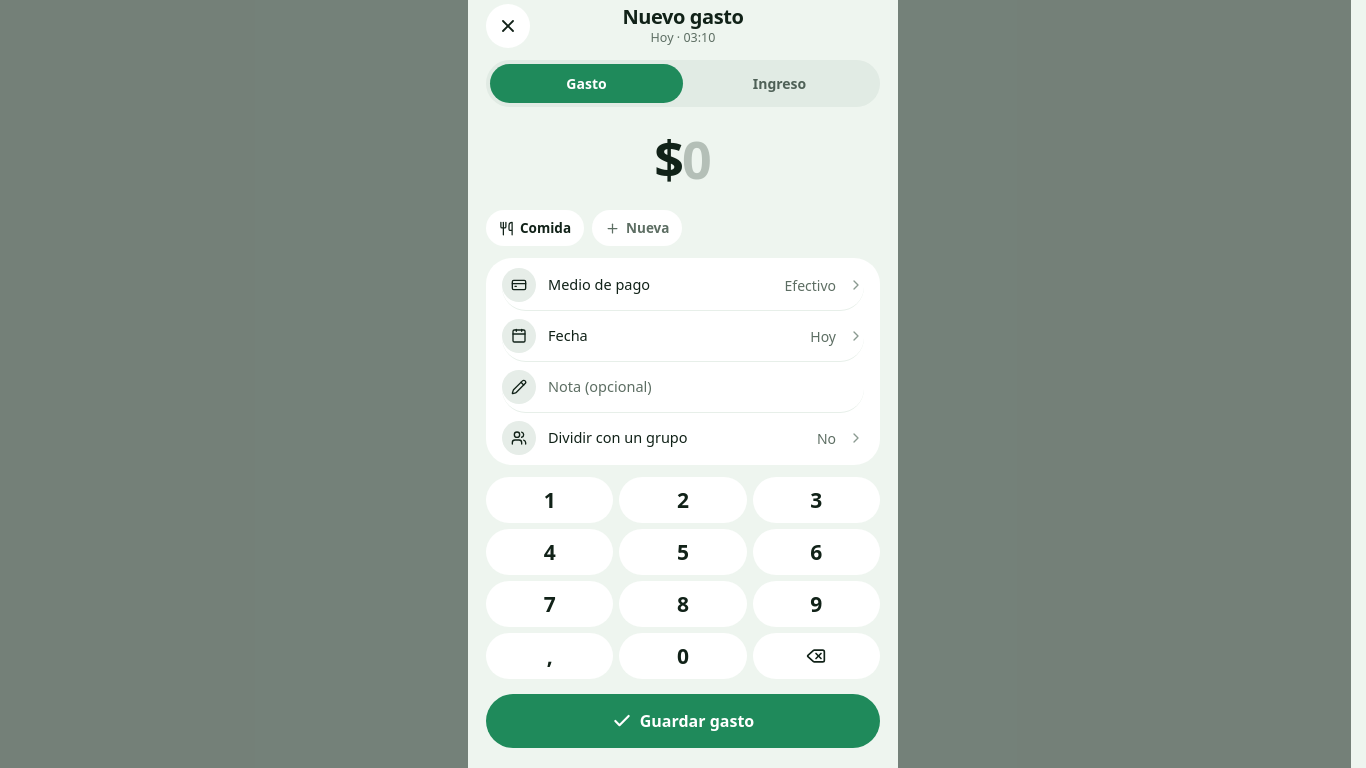
Test: MovementSheet overdraft warning › saves straight away when the account covers the expense
This screenshot has width=1366, height=768.
In the field named "Monto": [697, 158] box left=682, top=123, right=712, bottom=194, type "4000"
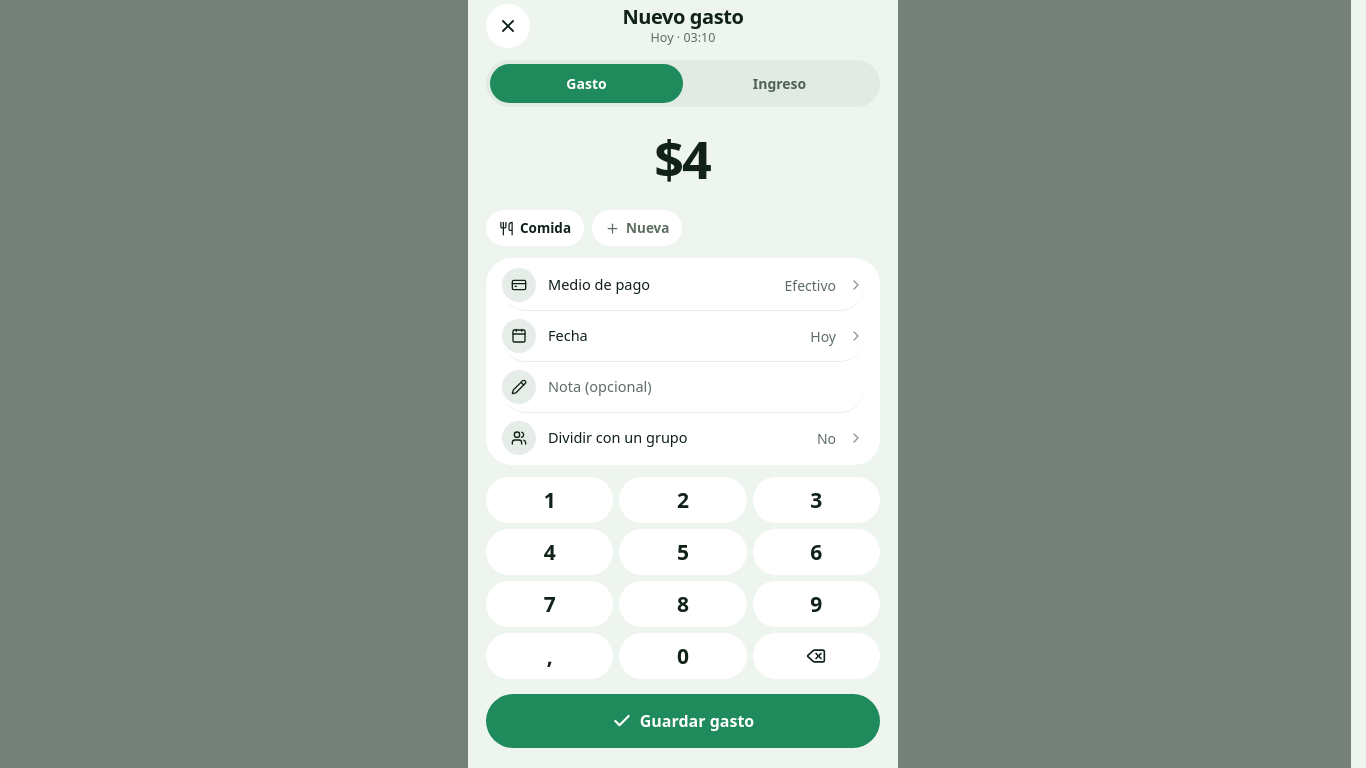
Click the button "Comida": [535, 228] box left=486, top=210, right=584, bottom=246
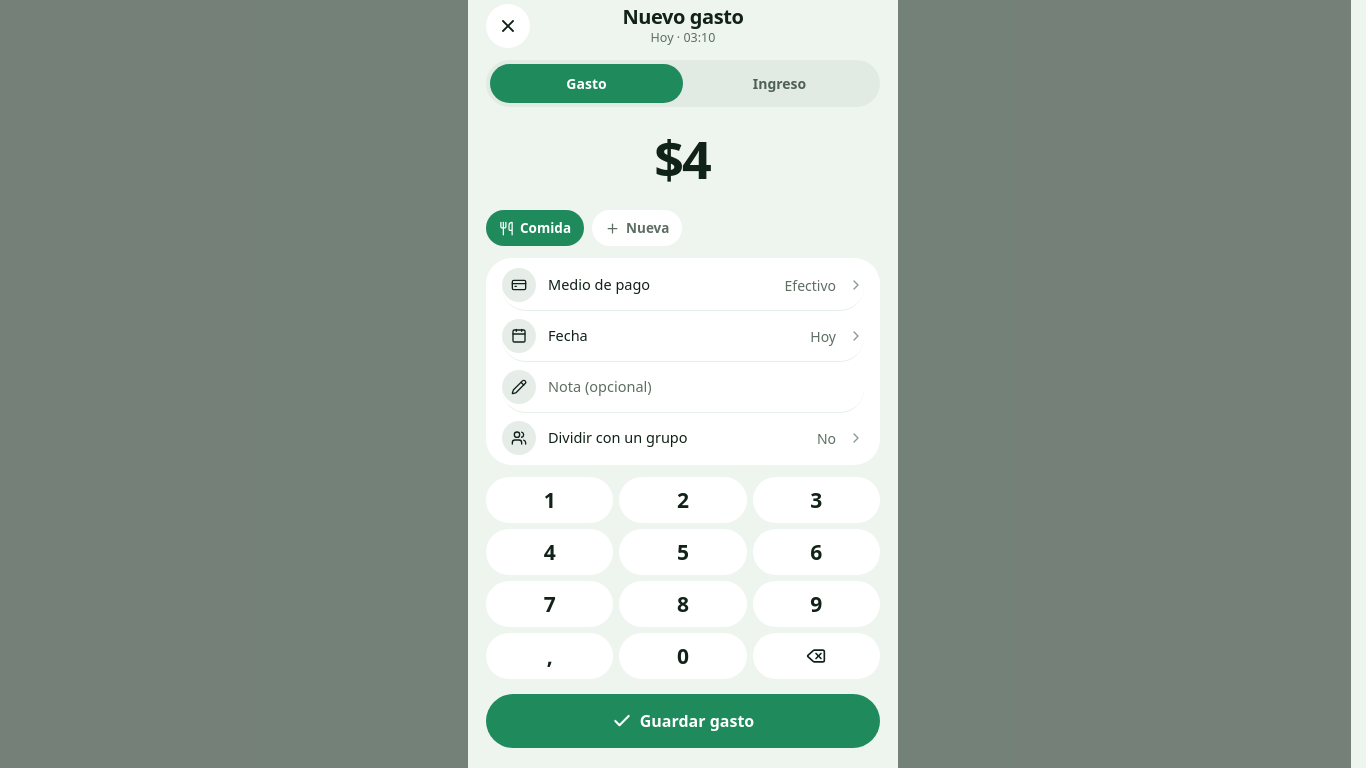
Click the button "Guardar gasto": [683, 721] box left=486, top=694, right=880, bottom=748
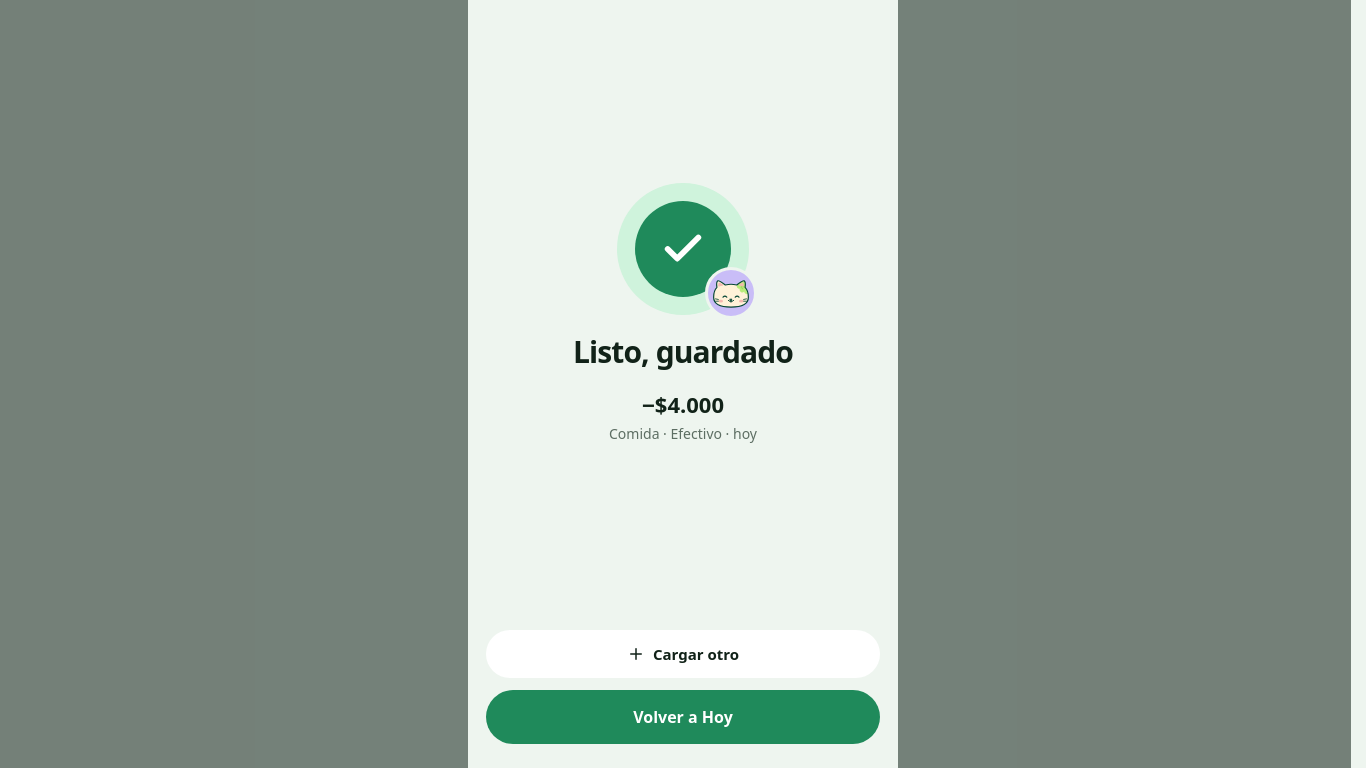
Result: the text "Listo, guardado" is shown at left=573, top=328, right=793, bottom=374
